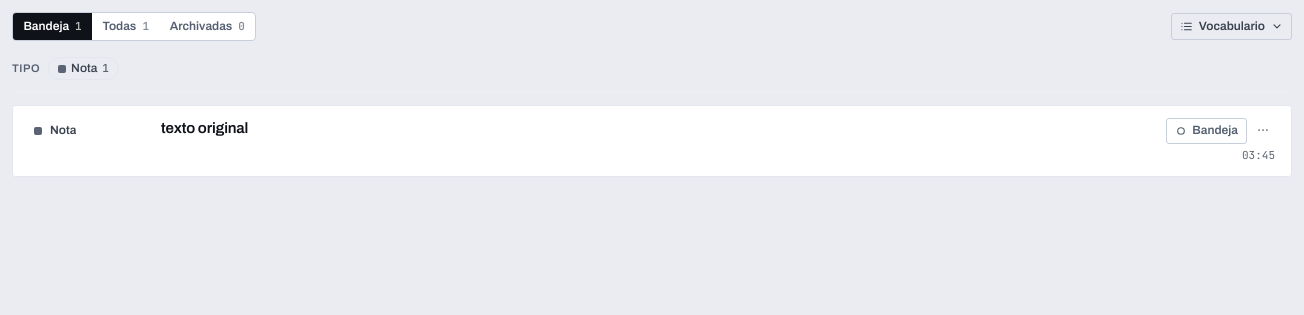
Test: F2 — un fallo que la fila no puede contar › informa de un archivado que falla, aunque la fila se vaya de la lista
Expected: the link "texto original" is shown, [161,120,248,136]
Step 1. Click the button named "Acciones de la nota" → [1263, 130], box [1251,118,1275,142]
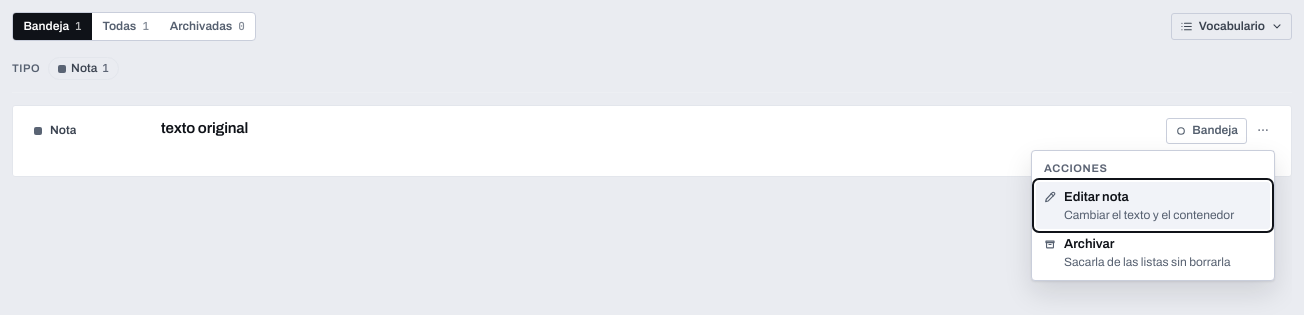
Step 2. Click the menu item "Archivar Sacarla de las listas sin borrarla" → [1153, 252], box [1036,229,1270,276]
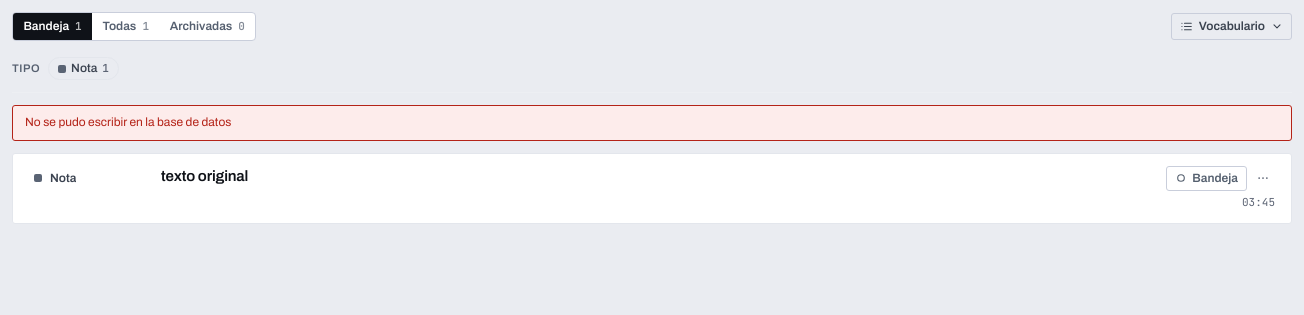
Expected: the link "texto original" is shown, [161,168,248,184]
Expected: the message reads "No se pudo escribir en la base de datos", [25,115,231,129]
